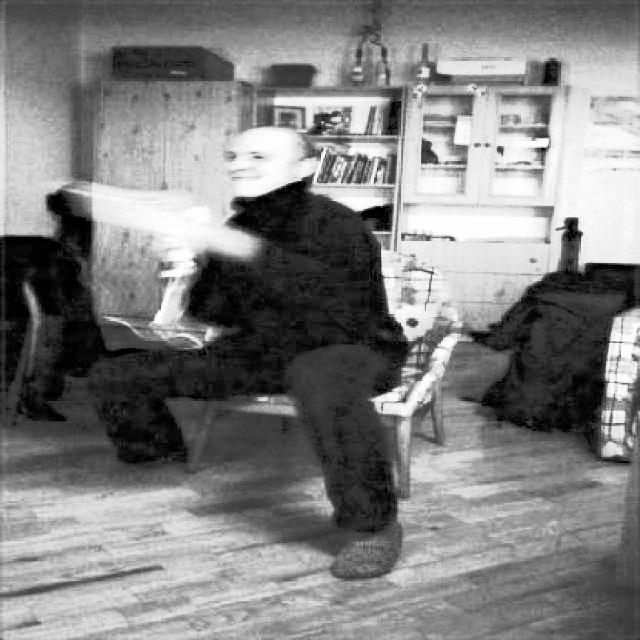Person: (76, 116, 413, 587)
